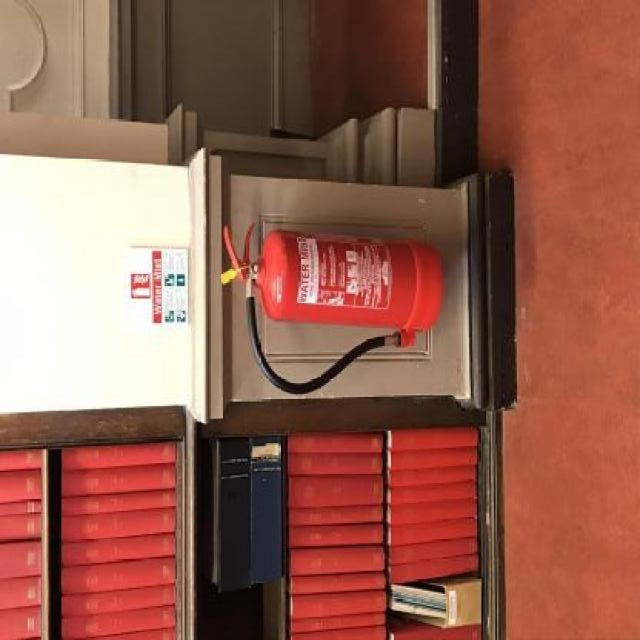fire extinguisher: (223, 220, 445, 395)
